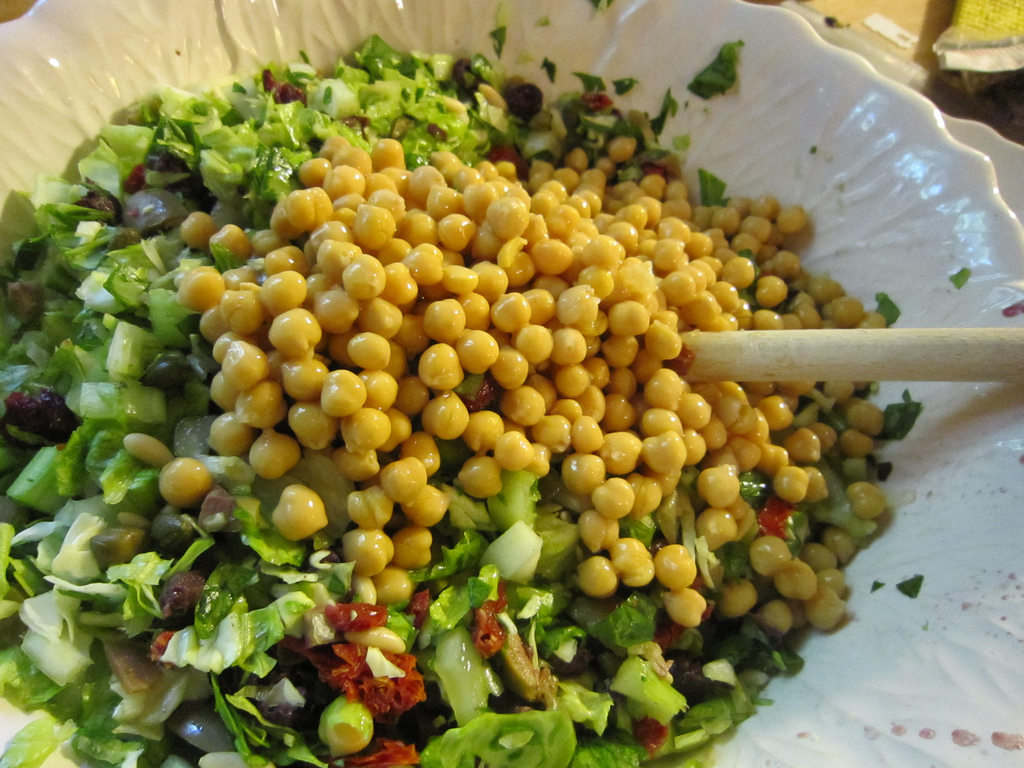chopped lettuce: (90, 559, 774, 768), (10, 199, 203, 750)
